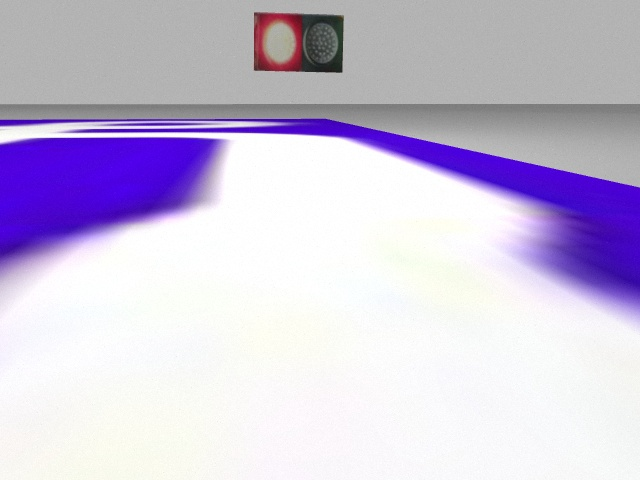red: (254, 14, 301, 70)
